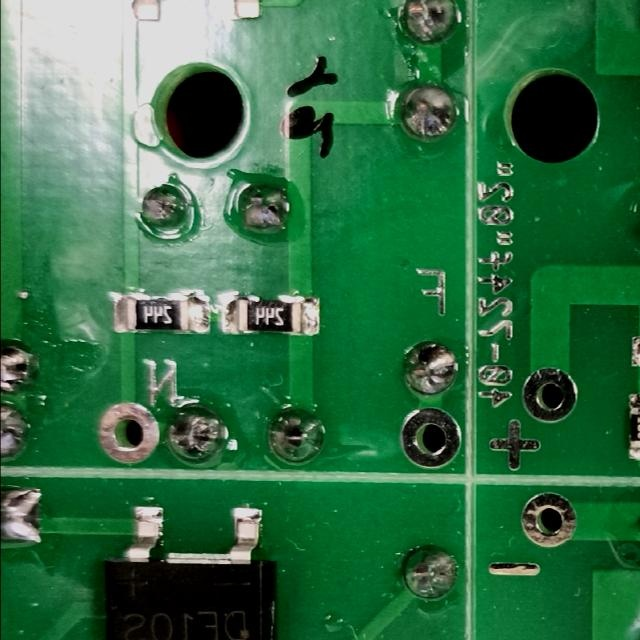chip-resistor: (109, 289, 211, 336), (220, 294, 323, 338)
ic: (101, 500, 281, 640)
